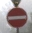No entry: (5, 6, 27, 28)
